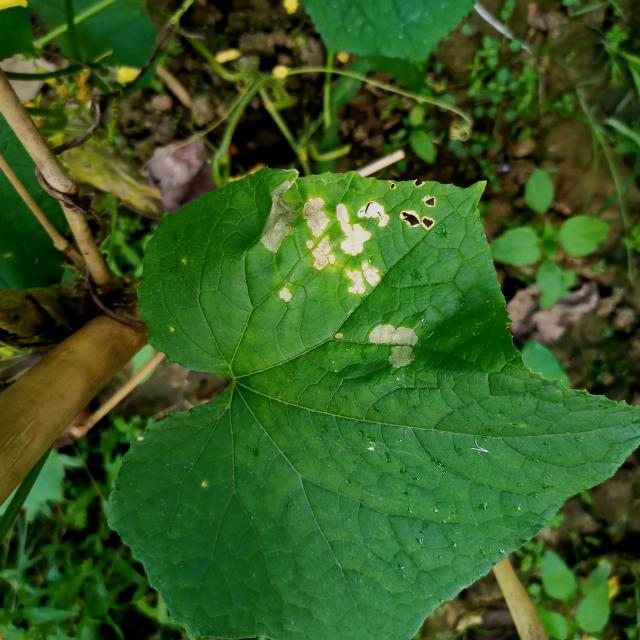disease_cucumber: (252, 177, 454, 305), (366, 316, 423, 374)
